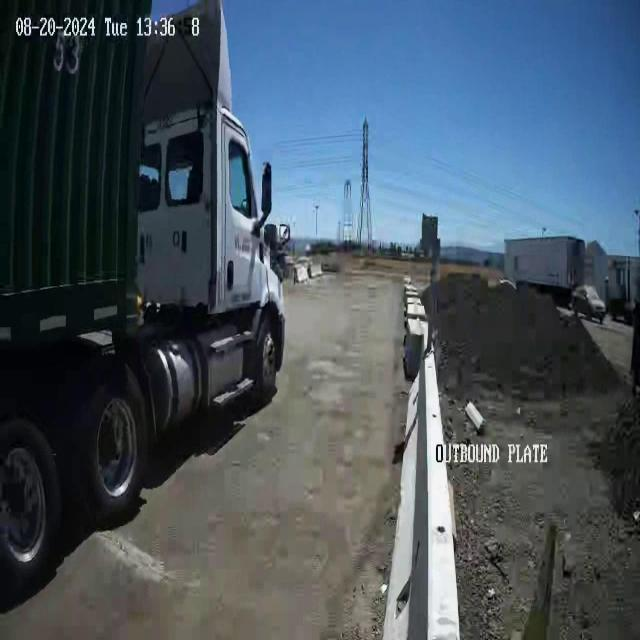TRUCK_CONTAINER: (1, 1, 287, 605)
